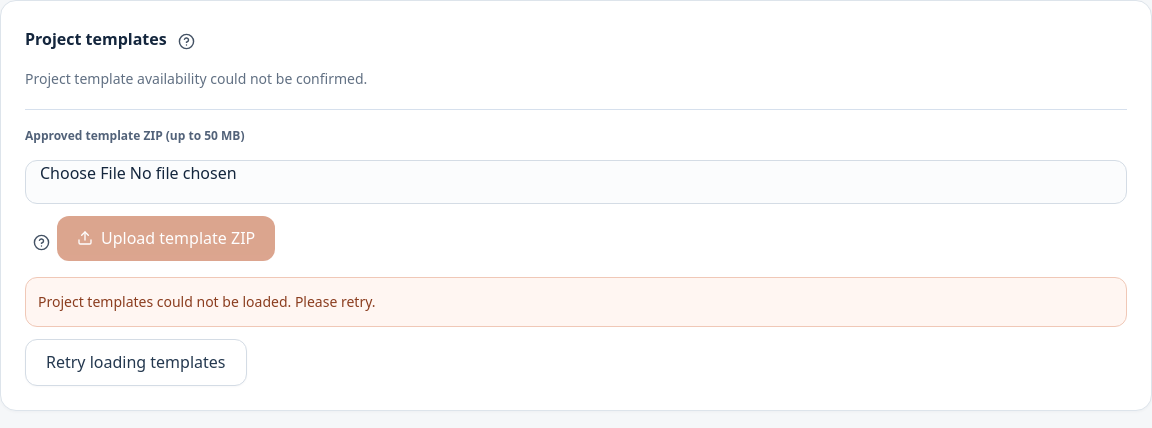
project template pack › ends the loading state after a read failure and retries only the read without publishing
Expected: the message reads "Project templates could not be loaded. Please retry.", [38,292,376,311]
Expected: the text "Project template availability could not be confirmed." is shown, [25,69,367,88]
Click the button "Retry loading templates": [136, 362] box [25,339,246,386]
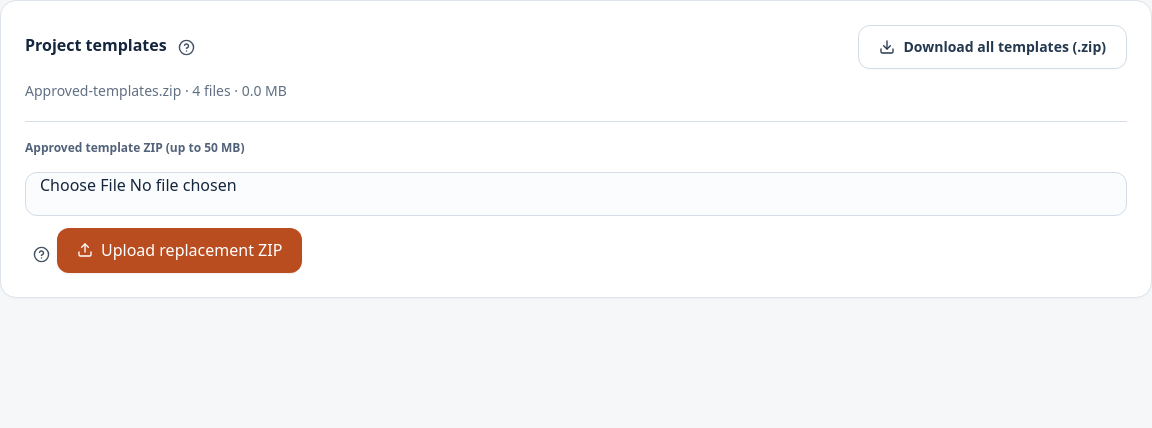
Result: the link "Download all templates (.zip)" is shown at [858,25,1127,69]
Result: the message "Project templates could not be loaded. Please retry." is gone
